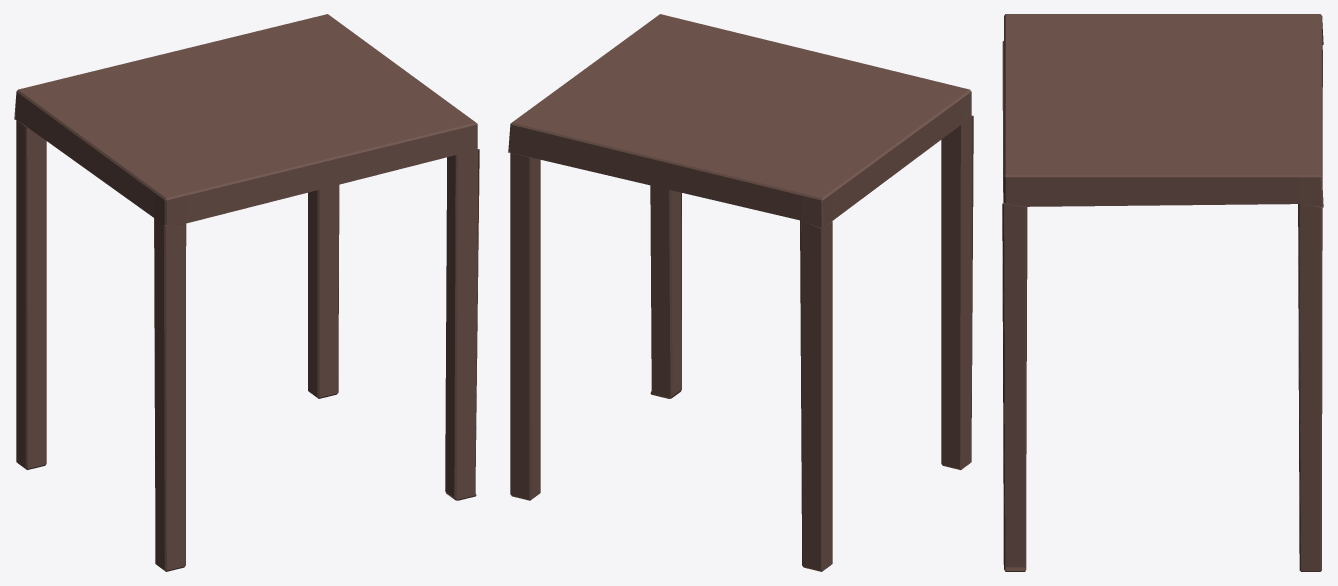
File: sideTable.fbx
The picture shows the model from 3 angles, left to right: view 1: azimuth 30°, elevation 25°; view 2: azimuth 150°, elevation 25°; view 3: azimuth 270°, elevation 25°; orthographic projection. The views are drawn at different scales.
Parts seen in each view (by area): view 1: SideTable; view 2: SideTable; view 3: SideTable.
Boxes of the visible parts, bbox=[...] form: SideTable: bbox=[14, 14, 479, 571]; SideTable: bbox=[508, 14, 973, 571]; SideTable: bbox=[1002, 14, 1323, 571].
Size of the model in its own units: 93.62 by 106 by 77.62.
